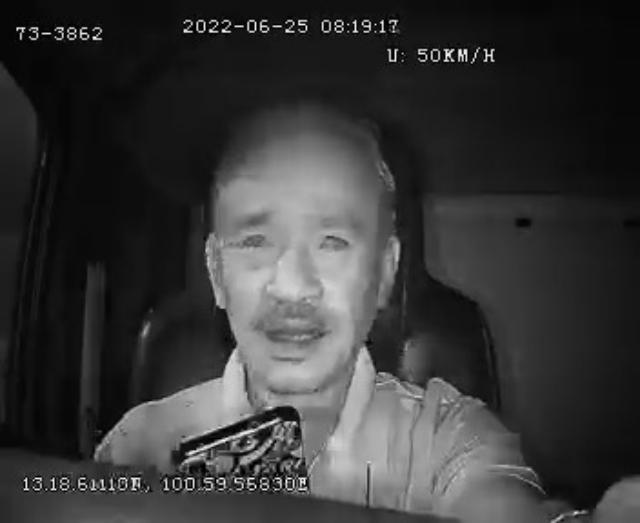PhoneUse: (174, 403, 306, 473)
SafeDriving: (220, 217, 279, 258), (308, 217, 359, 259)
